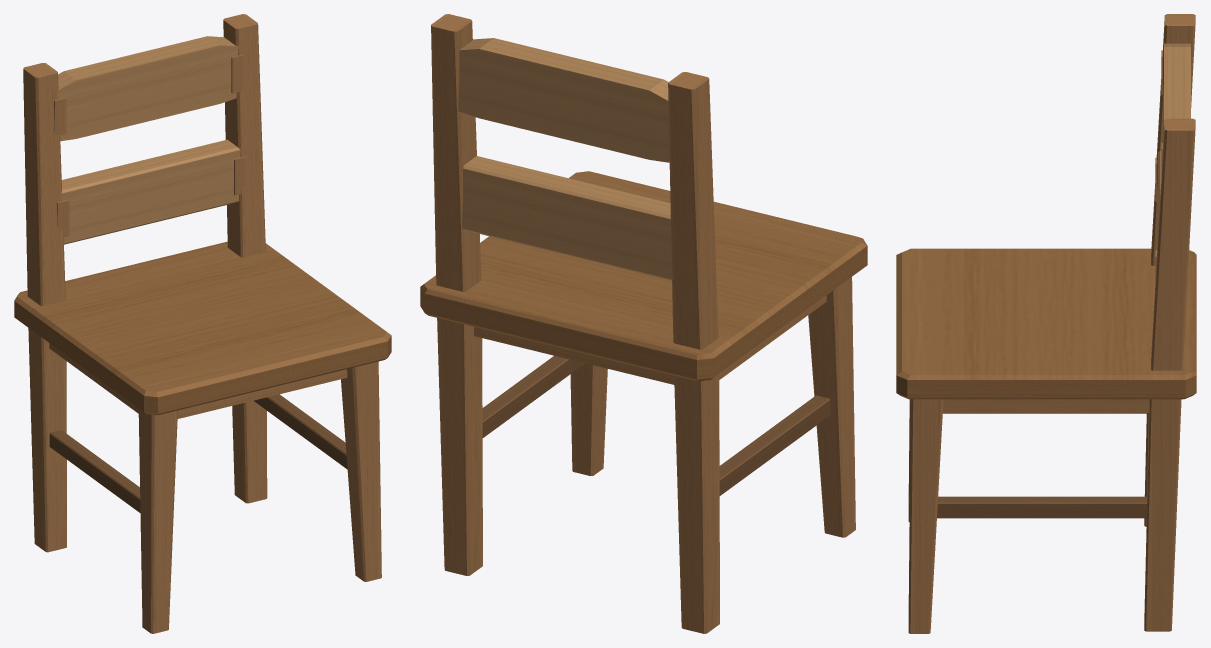
File: dining_chair_refined.glb
3 views of the same model, side by side, from view 1: azimuth 30°, elevation 25°; view 2: azimuth 150°, elevation 25°; view 3: azimuth 270°, elevation 25° (orthographic). The views are drawn at different scales.
Parts seen in each view (by area): view 1: home_dining_chair_refined; view 2: home_dining_chair_refined; view 3: home_dining_chair_refined.
Part boxes in pixels (bbox=[...]): home_dining_chair_refined: bbox=[14, 14, 391, 633]; home_dining_chair_refined: bbox=[420, 14, 867, 633]; home_dining_chair_refined: bbox=[896, 14, 1196, 633].
Bounding box in the file's own units: 0.5 × 0.902 × 0.49.
Materials: 1 (1 with a texture image).
